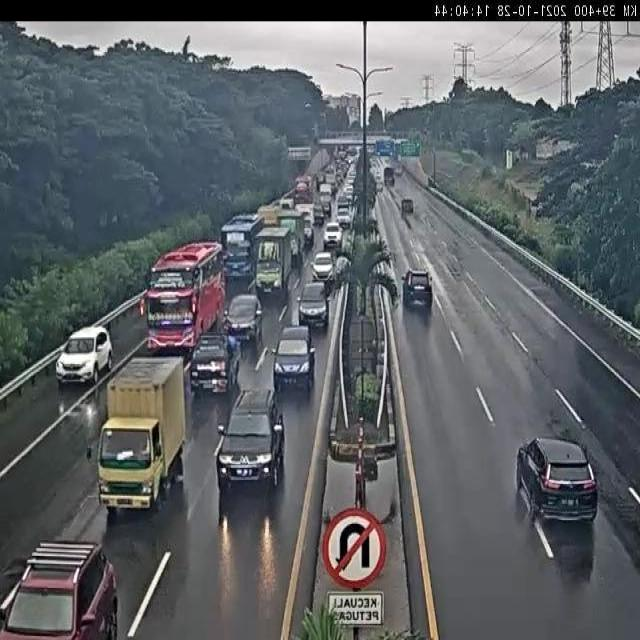Bus: (138, 217, 238, 352), (254, 224, 296, 303), (220, 213, 265, 283)
Car: (215, 387, 287, 500), (523, 499, 595, 582), (402, 268, 433, 312), (401, 198, 413, 214)
Truck: (96, 358, 186, 515), (1, 538, 118, 638), (516, 436, 596, 522), (56, 326, 113, 387), (274, 325, 317, 399), (273, 208, 308, 270), (0, 555, 30, 624), (58, 378, 104, 422), (190, 383, 228, 436), (297, 281, 330, 332), (339, 226, 372, 273), (279, 324, 312, 352), (311, 251, 334, 282), (287, 146, 312, 174), (370, 258, 393, 286), (256, 204, 282, 228), (183, 366, 193, 426), (361, 451, 378, 482), (323, 221, 342, 248), (299, 209, 314, 242), (551, 139, 576, 158), (228, 213, 260, 227), (319, 186, 333, 217), (323, 264, 336, 296), (333, 159, 347, 188), (334, 256, 347, 286), (317, 136, 349, 148), (536, 141, 554, 160), (295, 184, 312, 204), (336, 200, 350, 224), (393, 138, 409, 159), (530, 194, 544, 216), (376, 350, 385, 384), (313, 202, 325, 225), (380, 239, 391, 264), (448, 257, 461, 278), (296, 175, 312, 192), (344, 188, 355, 212), (325, 172, 337, 194), (345, 177, 356, 199), (581, 159, 603, 170), (337, 146, 349, 164), (384, 166, 394, 186), (368, 212, 378, 231), (280, 197, 294, 210), (375, 142, 388, 156), (106, 318, 114, 340), (401, 206, 410, 225), (355, 365, 369, 377), (330, 146, 340, 162), (505, 150, 513, 170), (326, 166, 335, 182), (321, 174, 330, 190), (314, 175, 323, 191), (365, 142, 376, 155), (394, 288, 401, 307), (346, 155, 355, 169), (348, 146, 358, 158), (380, 150, 392, 160), (427, 175, 436, 188), (382, 136, 393, 146), (392, 147, 400, 160), (356, 146, 364, 158), (394, 138, 404, 147), (395, 166, 403, 177), (376, 179, 383, 191), (313, 131, 319, 145), (379, 133, 389, 141), (429, 274, 433, 284), (402, 272, 406, 280)
